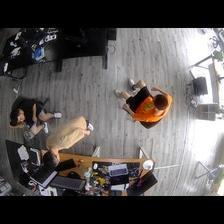normal: (109, 70, 171, 134), (40, 119, 95, 173), (5, 93, 55, 136)
